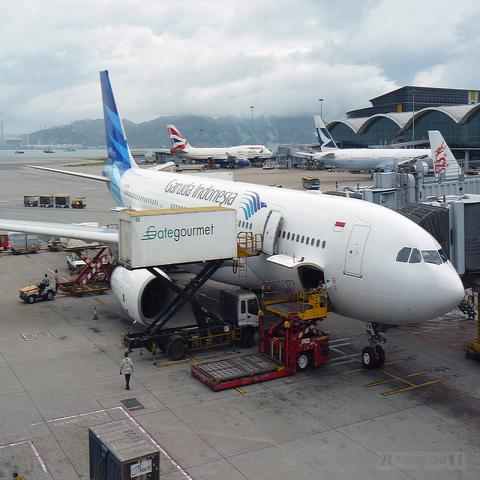bus: (301, 176, 320, 190)
car: (19, 283, 56, 303)
truck: (118, 206, 262, 361), (19, 284, 70, 303), (65, 252, 85, 270), (55, 195, 70, 206)
